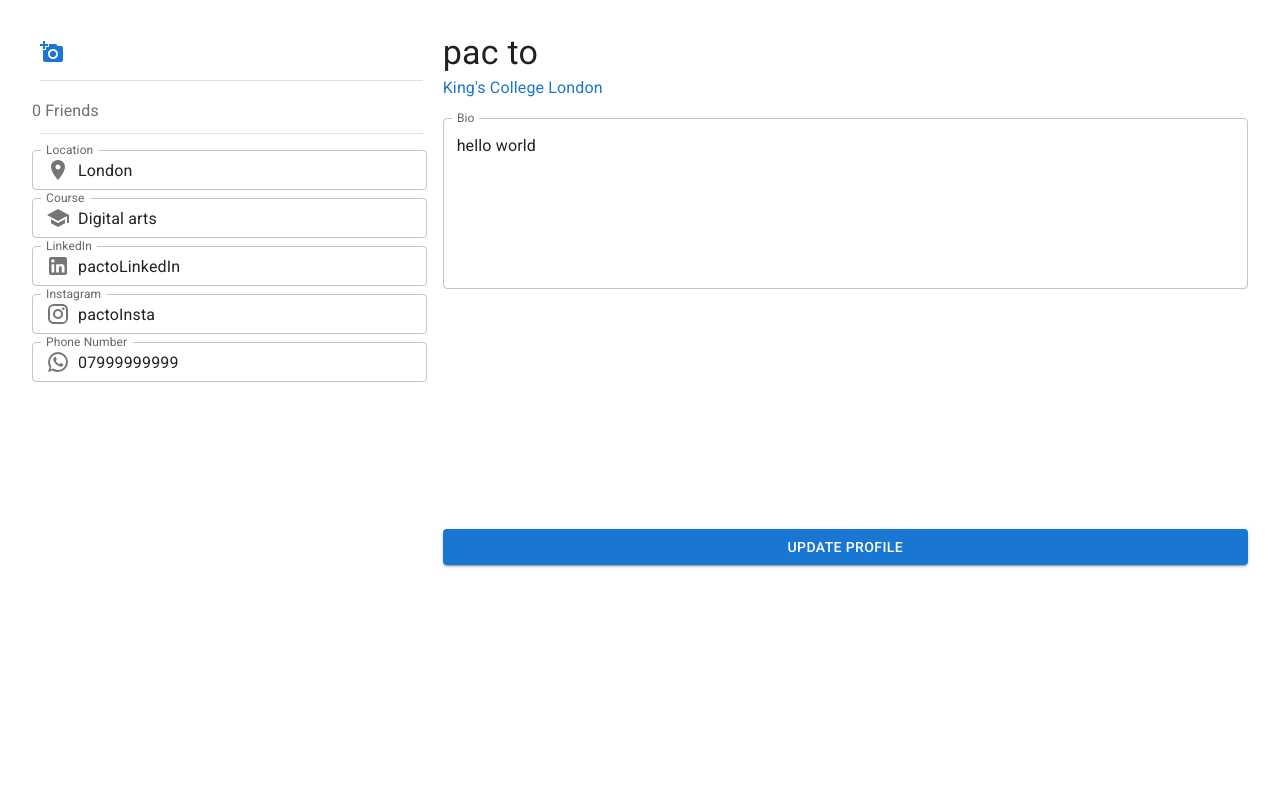
Test: Edit Profile Page Tests › Handles field errors › Shows bio field error
Click the button "Update Profile".
click(845, 547)  # box [443,529,1248,566]
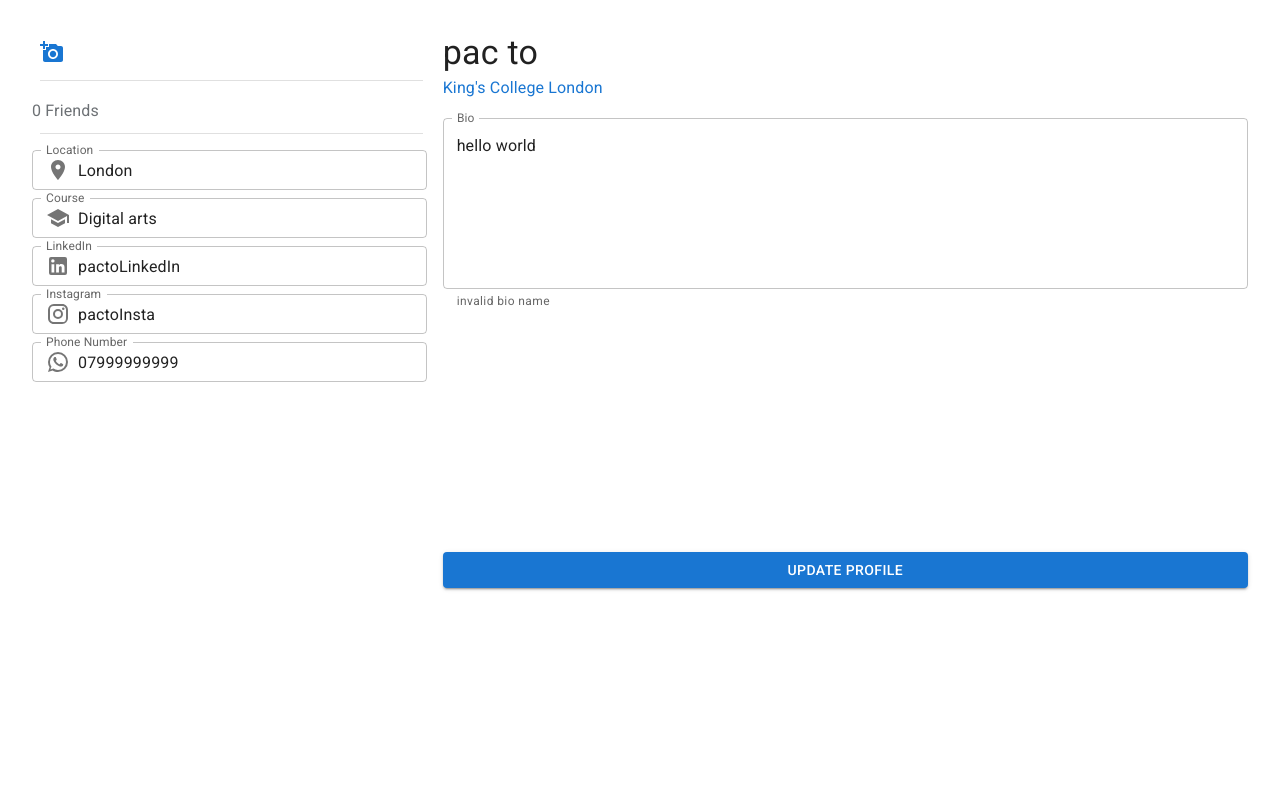
Now the text "invalid bio name" is shown, box [457,294,550,308]
